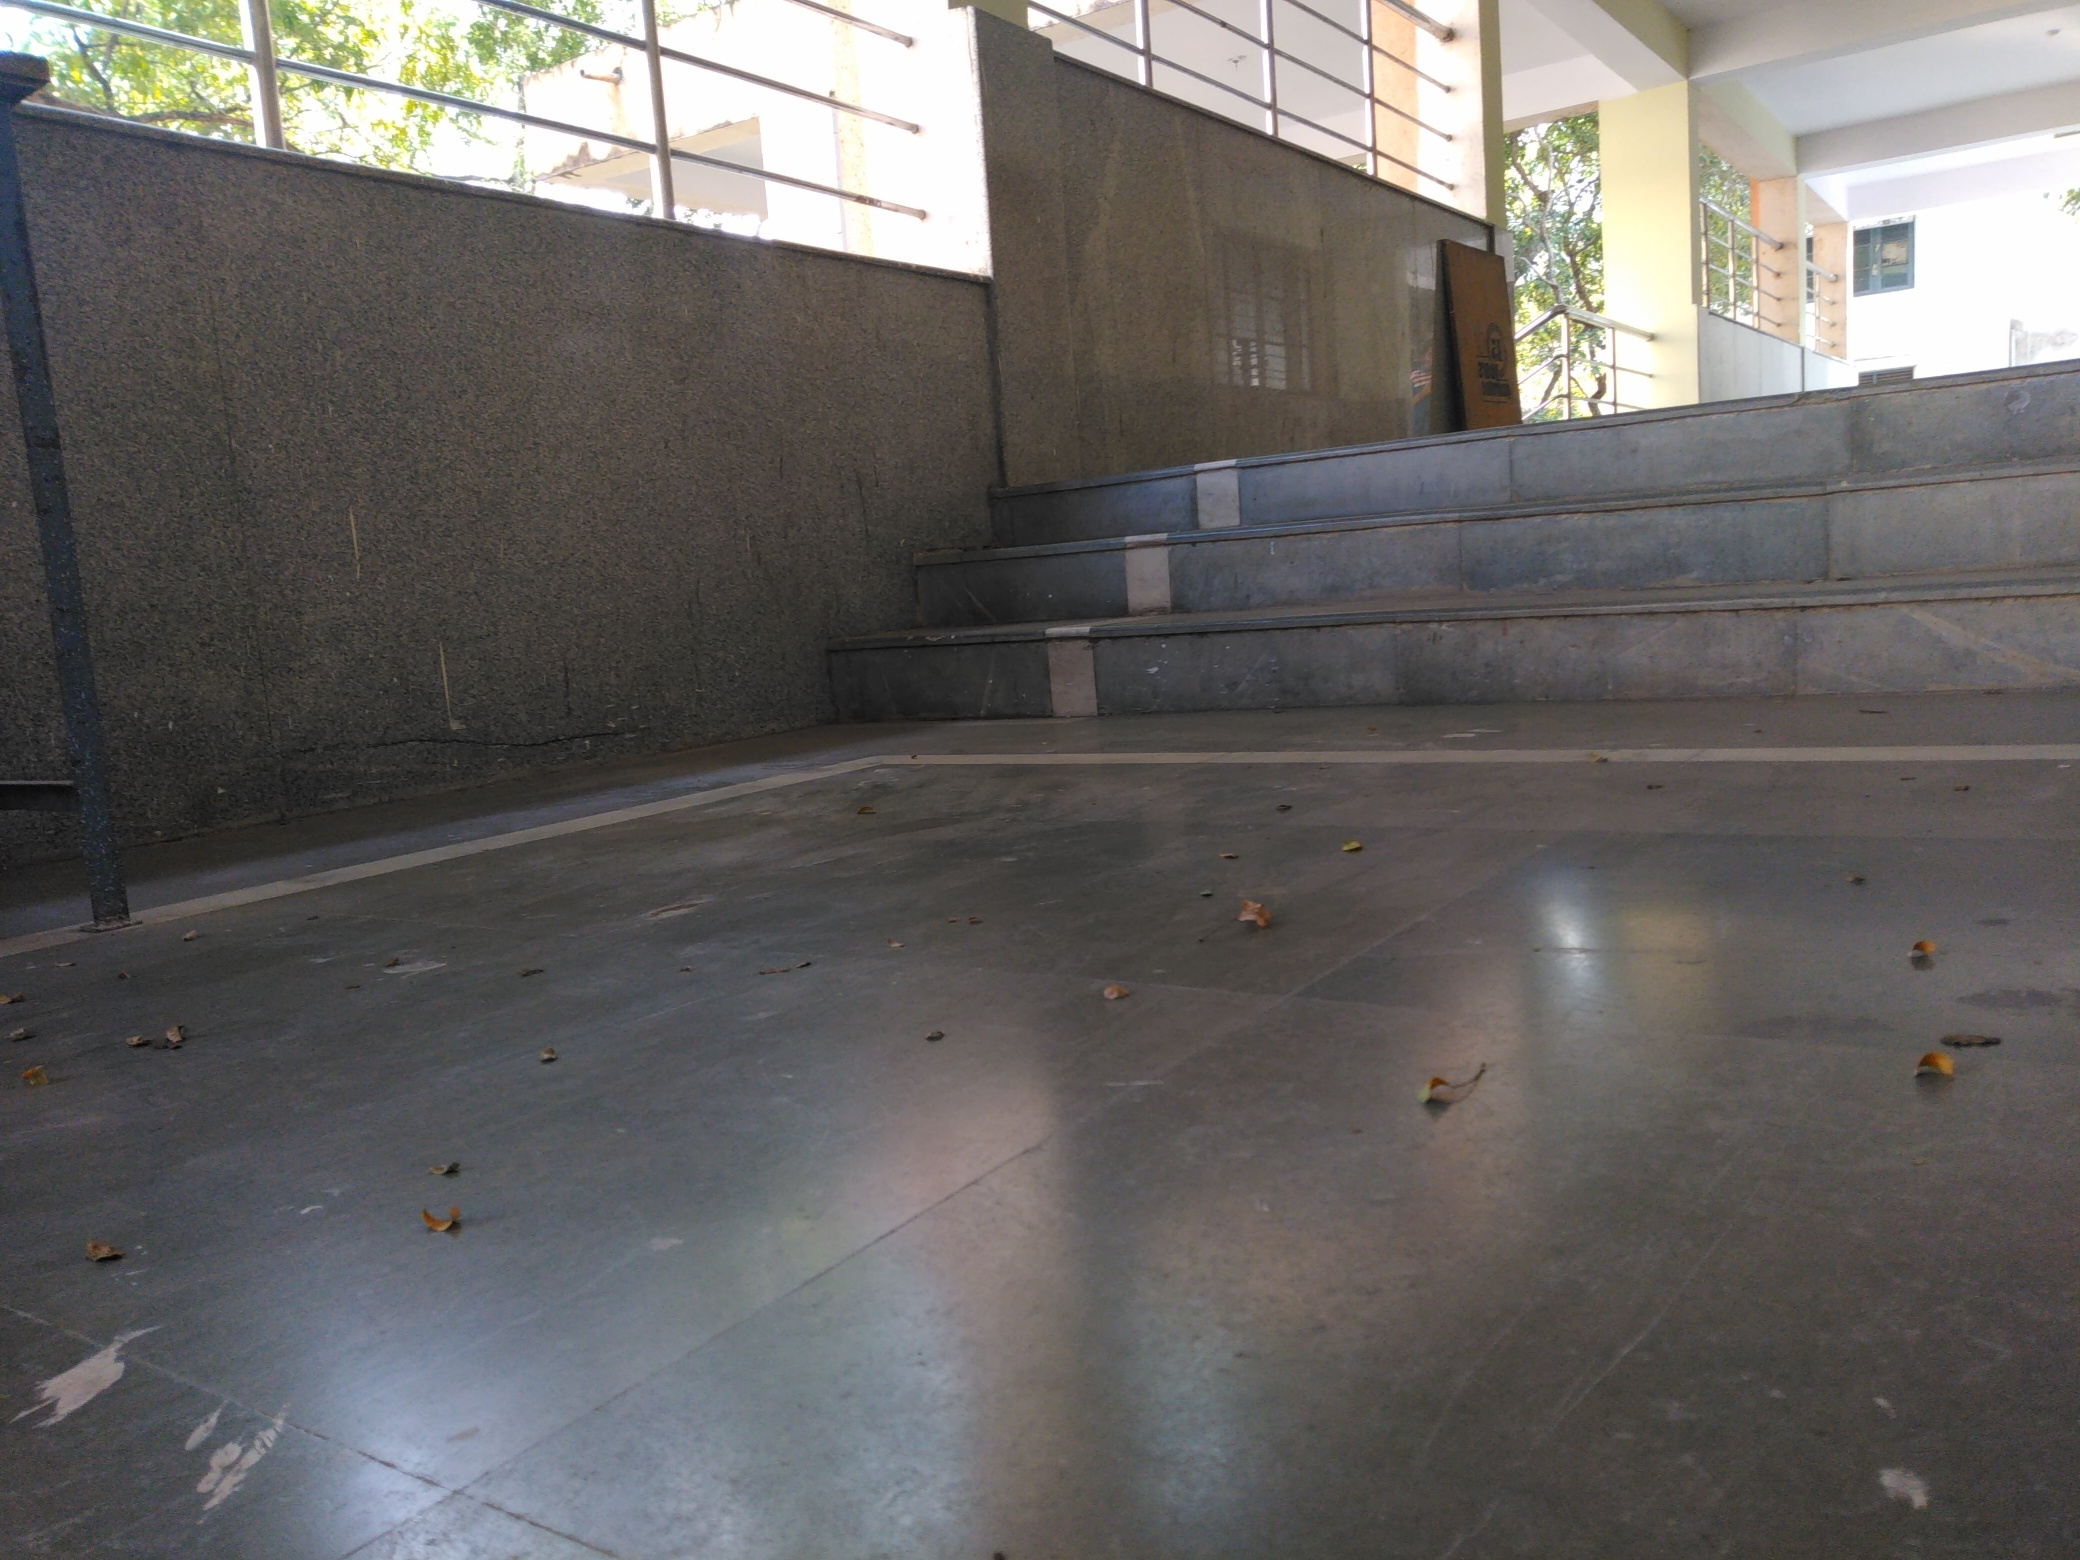stairs_up: (839, 364, 2073, 718)
